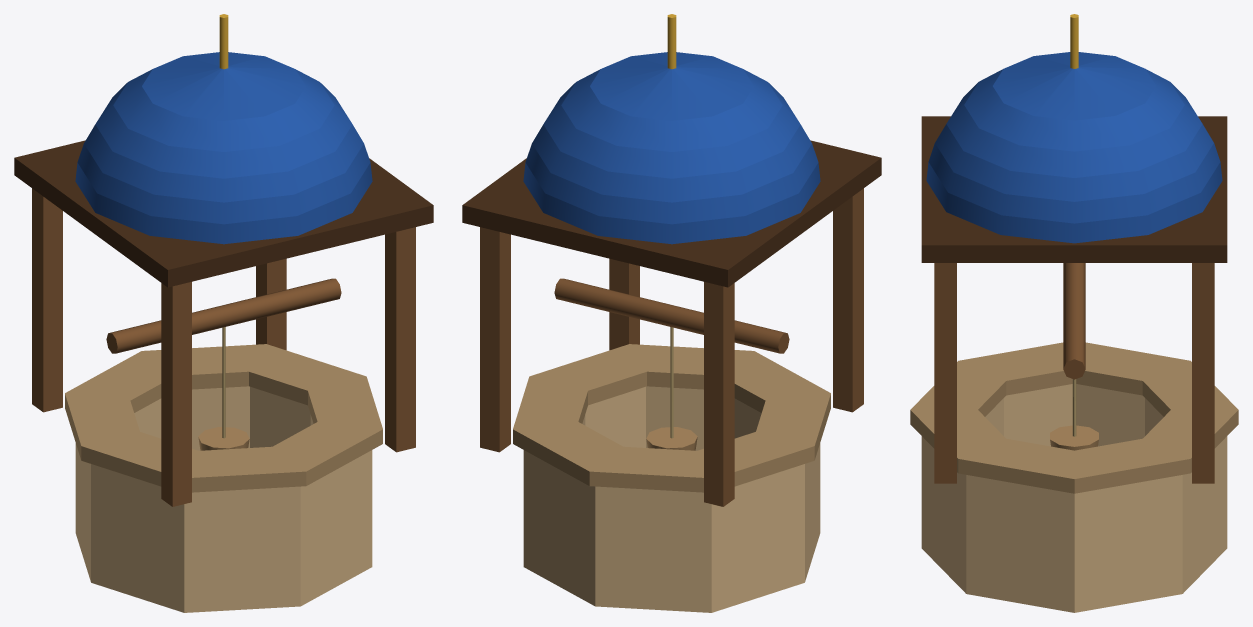
File: dc_well.glb
3 renders of one model, left to right at view 1: azimuth 30°, elevation 25°; view 2: azimuth 150°, elevation 25°; view 3: azimuth 270°, elevation 25°, orthographic.
Parts seen in each view (by area): view 1: dc_well; view 2: dc_well; view 3: dc_well.
Boxes of the visible parts, x1,y1,x2,y2 form: dc_well: (14,14,433,612); dc_well: (462,14,881,612); dc_well: (910,14,1238,612).
Size of the model in its own units: 2.04 by 3.65 by 2.04.
